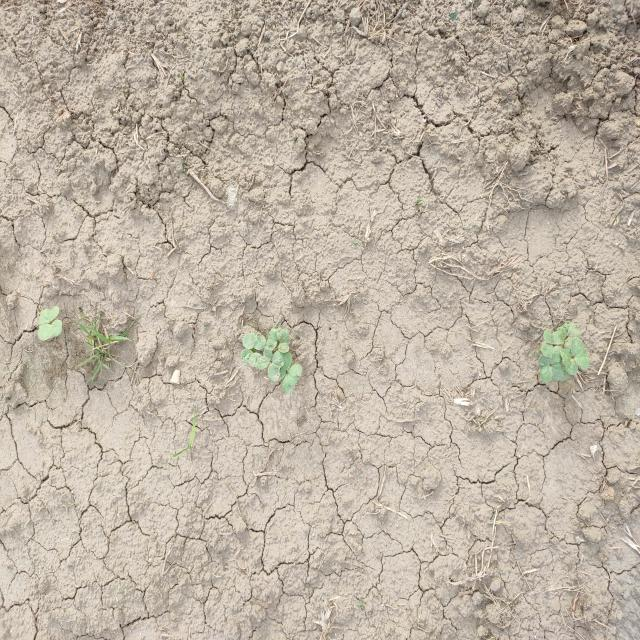seedling_s2: (281, 364, 303, 394), (570, 337, 590, 370), (268, 350, 285, 382), (38, 320, 63, 341), (563, 324, 581, 353), (540, 343, 563, 363), (561, 349, 578, 376), (242, 333, 266, 351), (278, 351, 292, 381), (538, 355, 553, 383), (266, 325, 282, 351), (39, 306, 60, 325), (241, 349, 262, 367), (257, 346, 272, 369), (543, 329, 564, 345), (549, 359, 563, 381), (278, 328, 290, 353), (557, 321, 572, 339)
